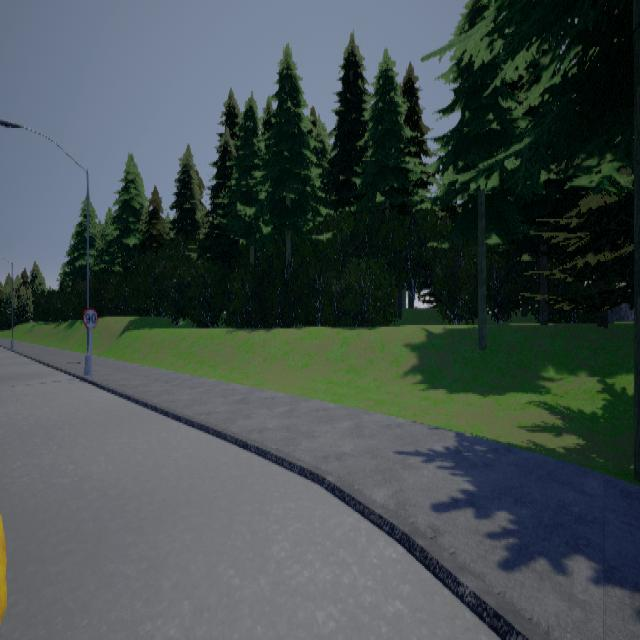traffic_sign: (82, 306, 97, 328)
